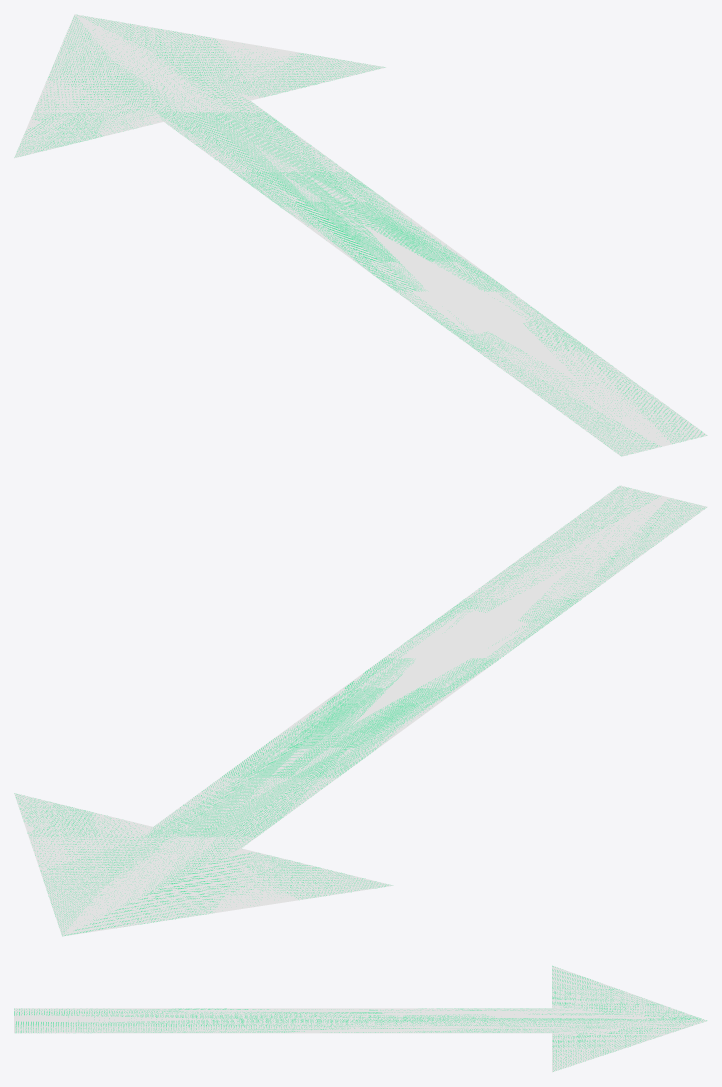
File: arrow91.dae
3 renders of one model, top to bottom at view 1: azimuth 30°, elevation 25°; view 2: azimuth 150°, elevation 25°; view 3: azimuth 270°, elevation 25°, orthographic. The views are drawn at different scales.
Parts seen in each view (by area): view 1: SketchUp; view 2: SketchUp; view 3: SketchUp.
Part boxes in pixels (box(x1,y1,x2,y2)): SketchUp: box(14, 14, 707, 456); SketchUp: box(14, 485, 707, 936); SketchUp: box(14, 965, 707, 1072).
Bounding box in the file's own units: 168 × 462 × 0.
